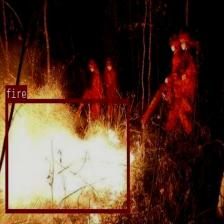fire: (5, 99, 129, 212)
